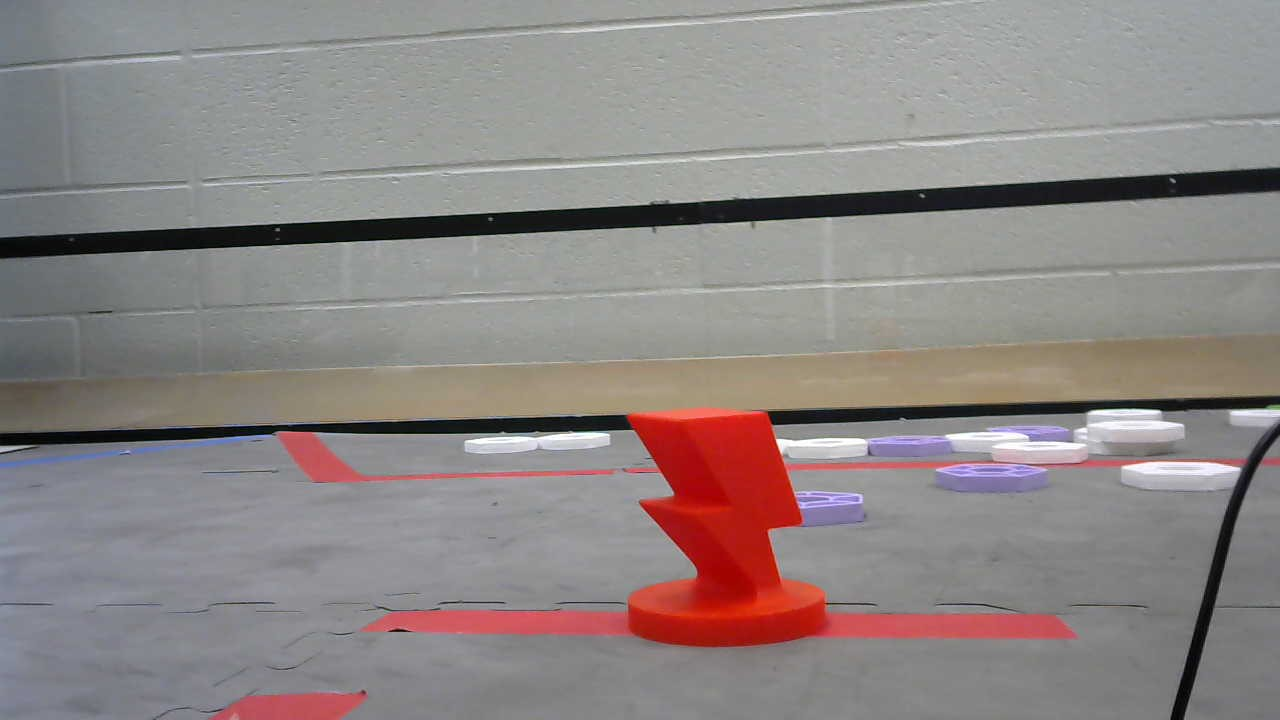redobject: (630, 408, 828, 646)
